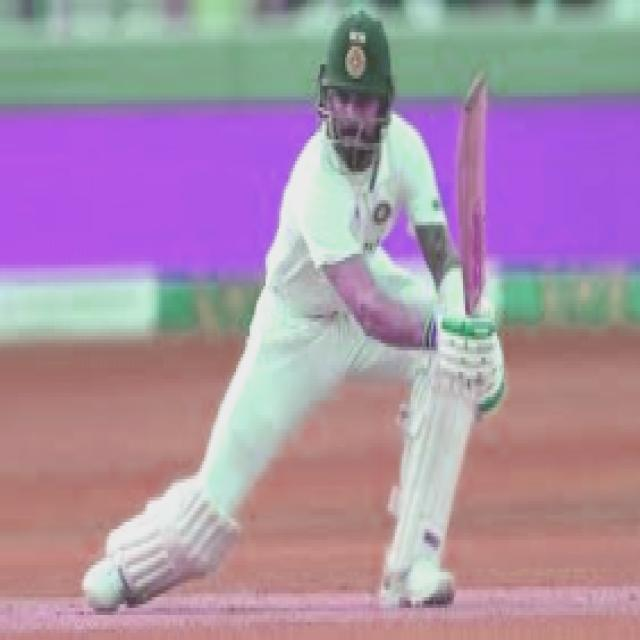bat: (454, 69, 498, 308)
toe: (460, 73, 493, 111)
